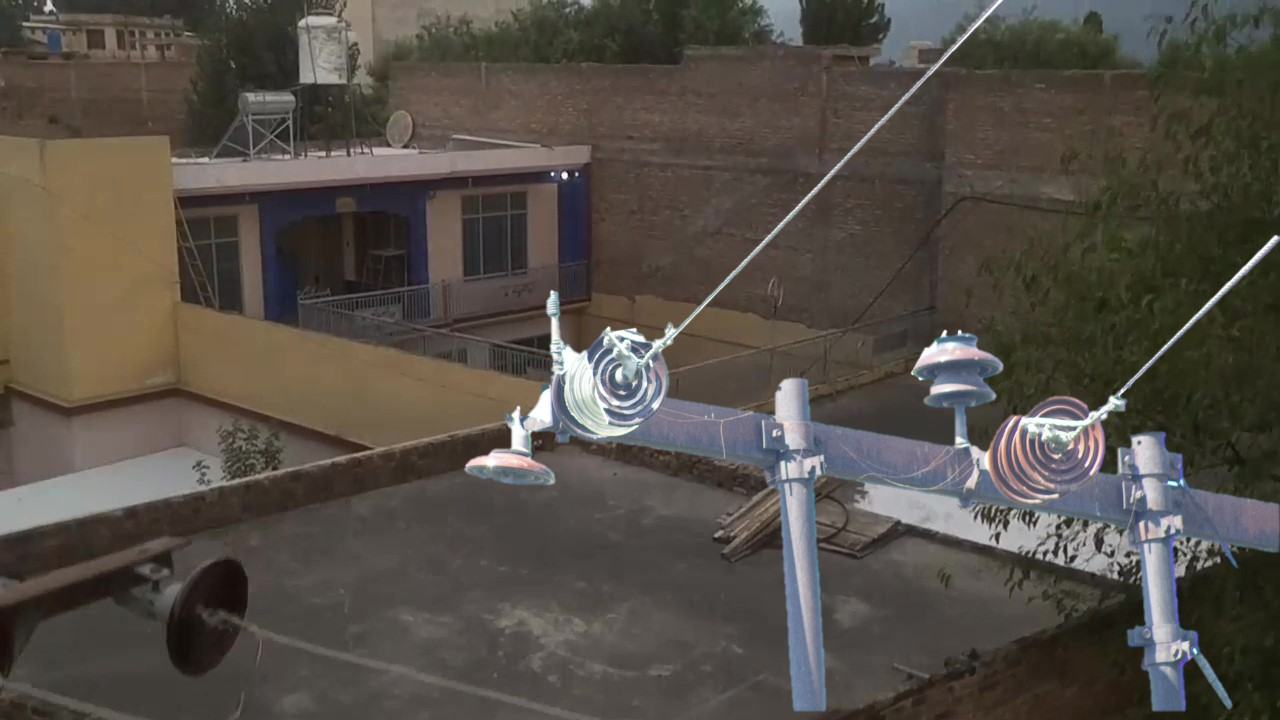defect_disc: (585, 321, 673, 432)
insulator_disc: (153, 533, 257, 676), (1009, 380, 1111, 492), (462, 431, 563, 493)
